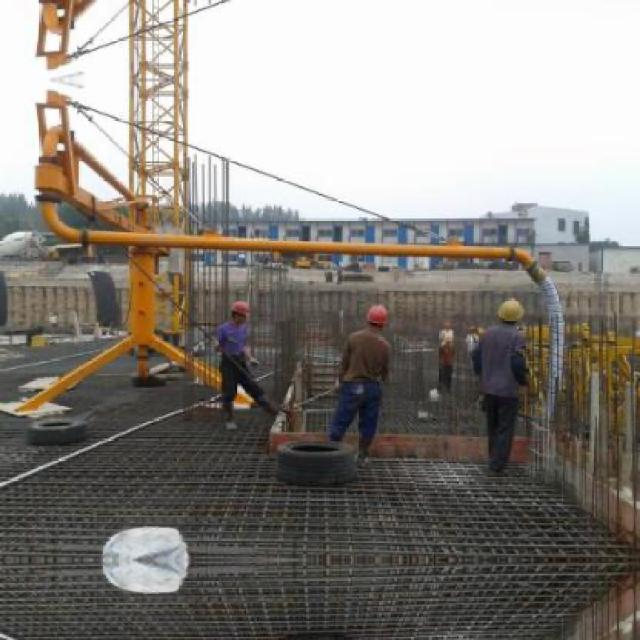con casco: (460, 293, 543, 351), (346, 293, 420, 342), (217, 285, 272, 329)
